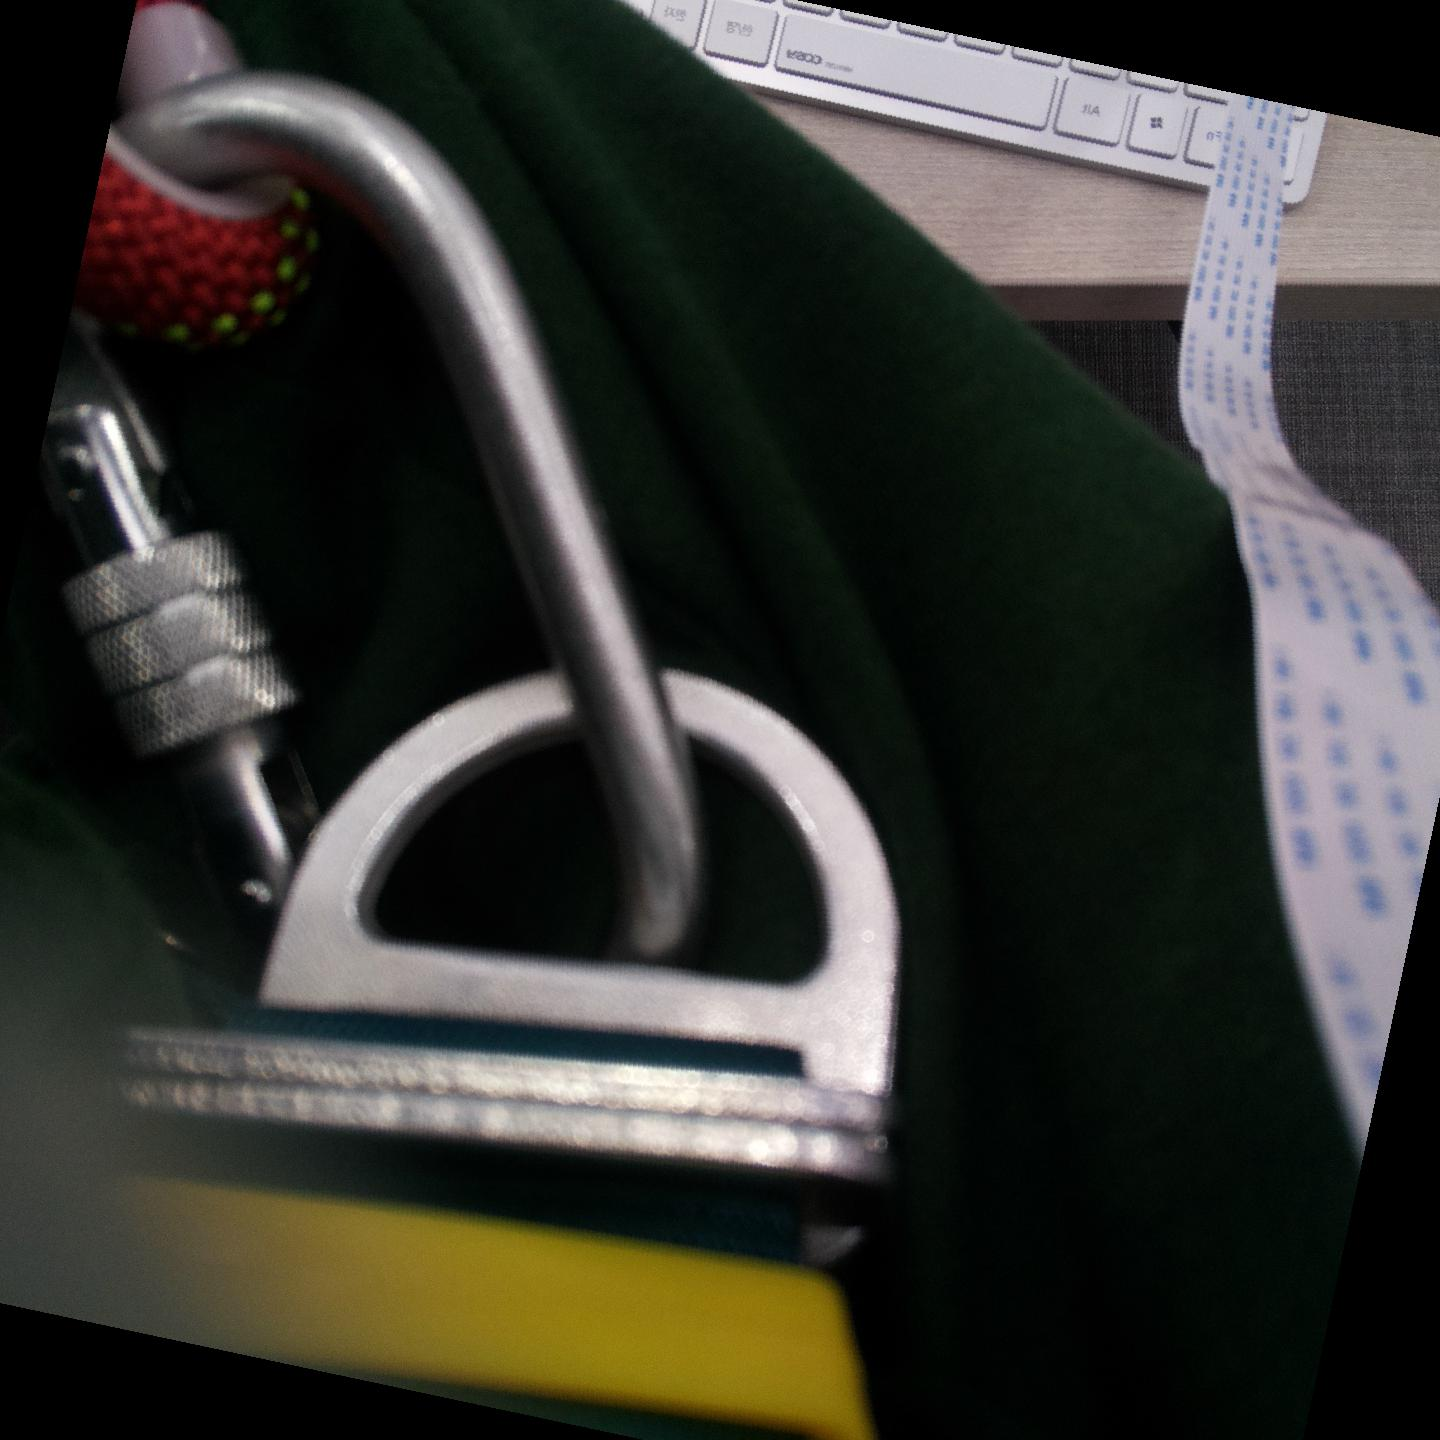SUCCESS: (95, 524, 686, 945)
